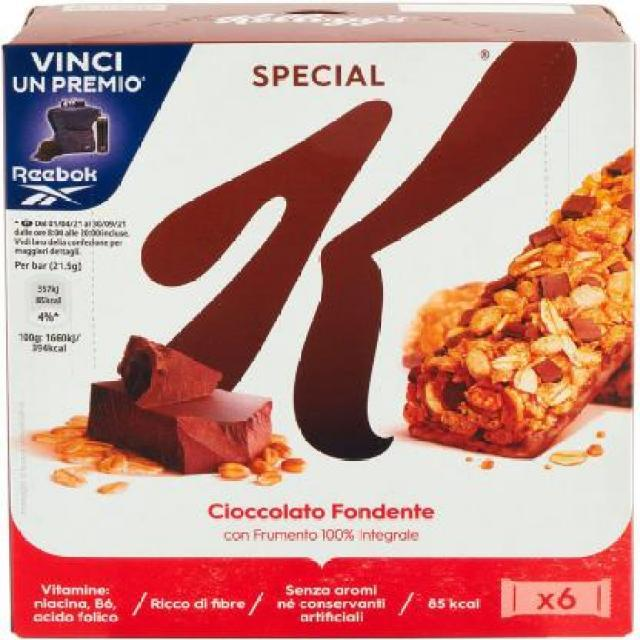Cereal bar: (14, 4, 639, 640)
